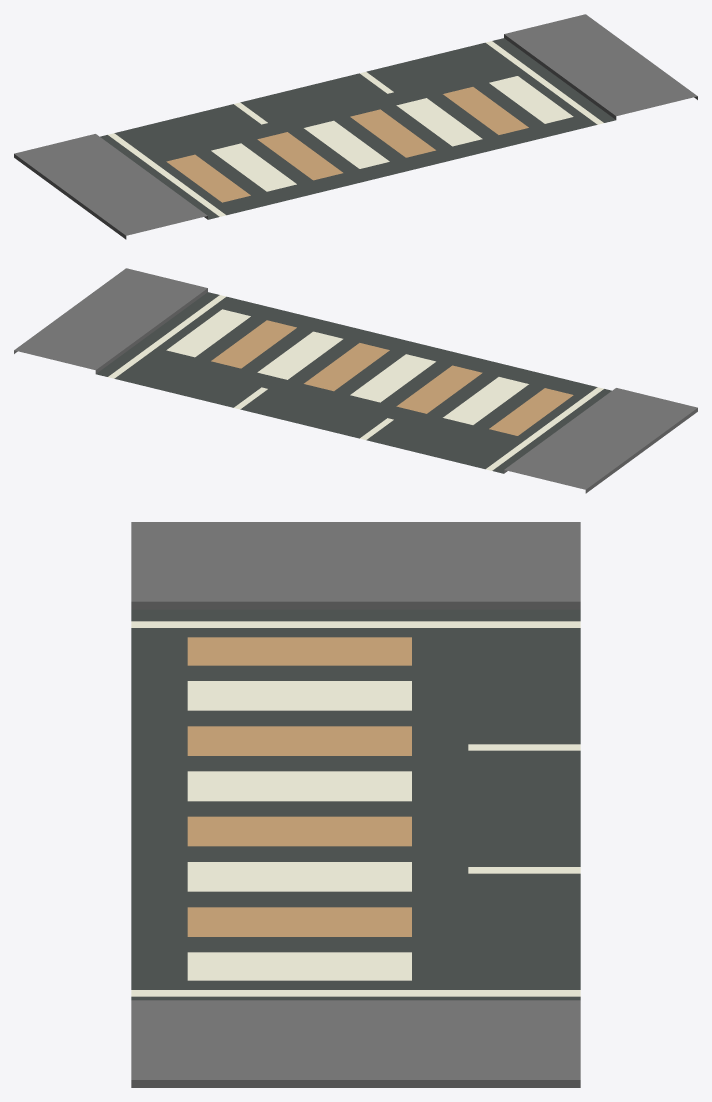
The model's file is Road_Crosswalk.fbx.
3 views of the same model, one above another, from view 1: azimuth 30°, elevation 25°; view 2: azimuth 150°, elevation 25°; view 3: azimuth 270°, elevation 25° (orthographic). The views are drawn at different scales.
Parts seen in each view (by area): view 1: Road_Crosswalk; view 2: Road_Crosswalk; view 3: Road_Crosswalk.
Boxes of the visible parts, box(x1,y1,x2,y2) form: Road_Crosswalk: box(14, 14, 697, 239); Road_Crosswalk: box(14, 268, 697, 493); Road_Crosswalk: box(131, 522, 580, 1087).
Size of the model in its own units: 29.4 by 0.1948 by 10.
1 material, 1 textured.
